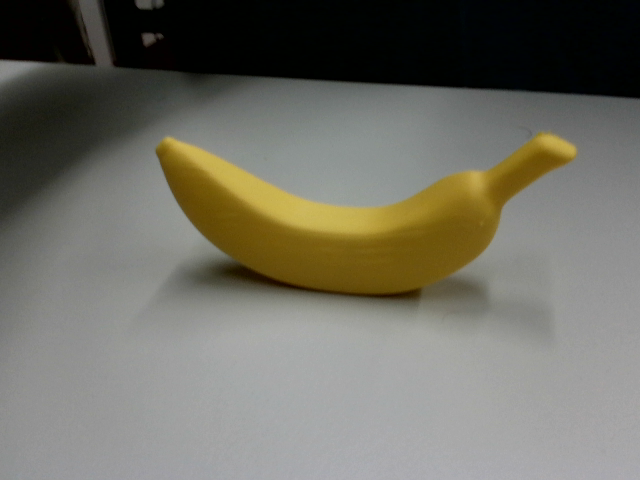banana: (156, 133, 576, 294)
